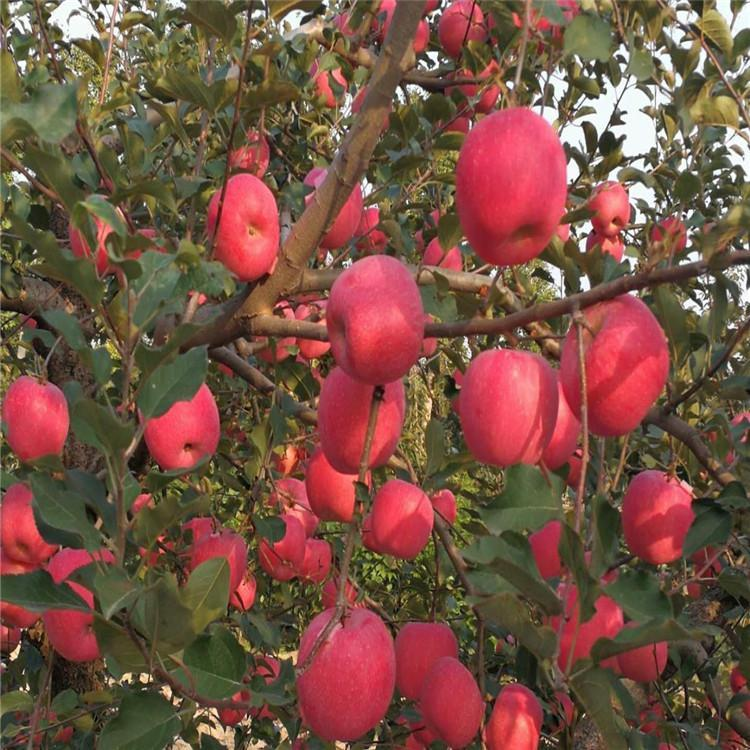apple: (453, 104, 567, 268), (556, 294, 673, 435), (292, 602, 394, 738), (454, 345, 566, 467), (321, 256, 427, 380), (42, 545, 127, 661), (316, 369, 407, 473), (209, 175, 278, 281), (139, 384, 220, 474), (621, 470, 693, 565), (355, 477, 436, 560), (419, 656, 487, 748), (1, 373, 69, 461), (393, 617, 460, 700), (305, 441, 375, 520), (1, 479, 63, 565), (484, 683, 547, 750), (259, 512, 309, 581), (586, 181, 632, 239)
